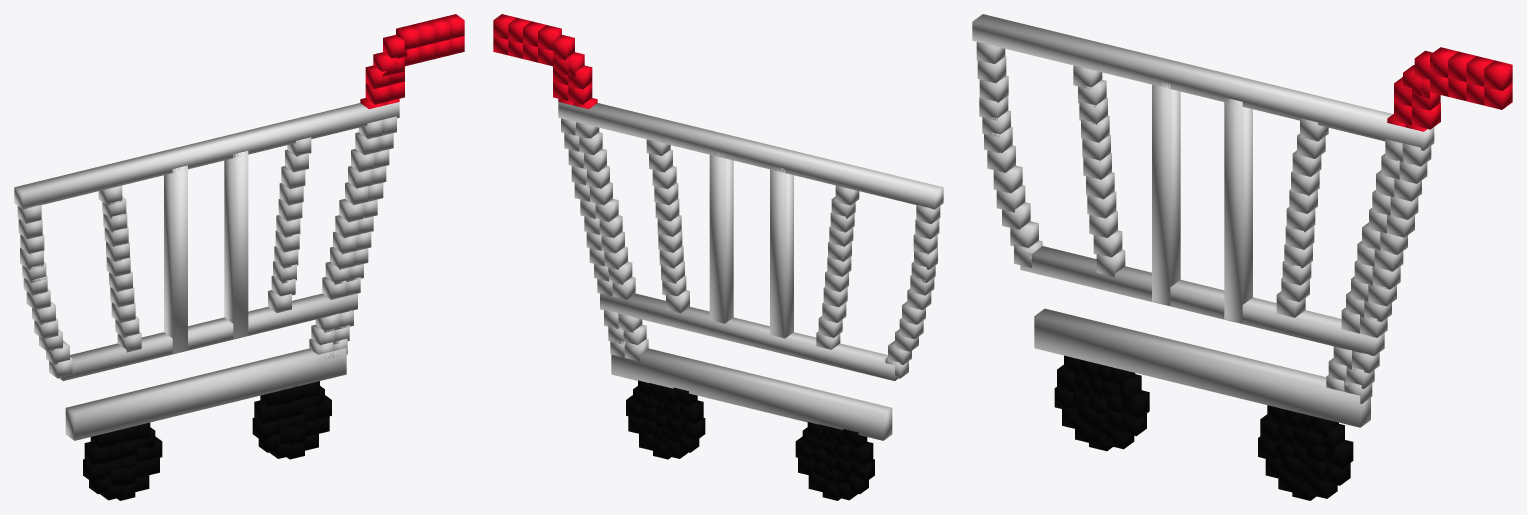
Rendered from panier.fbx.
The picture shows the model from 3 angles, left to right: view 1: azimuth 30°, elevation 25°; view 2: azimuth 150°, elevation 25°; view 3: azimuth 330°, elevation 25°; orthographic projection. The views are drawn at different scales.
Visible parts, largest first — view 1: Cube_087; view 2: Cube_087; view 3: Cube_087.
Part boxes in pixels (<box>): Cube_087: <box>14,14,464,500</box>; Cube_087: <box>493,14,943,500</box>; Cube_087: <box>972,14,1512,500</box>.
Bounding box in the file's own units: 7.95 × 6.82 × 0.2751.
